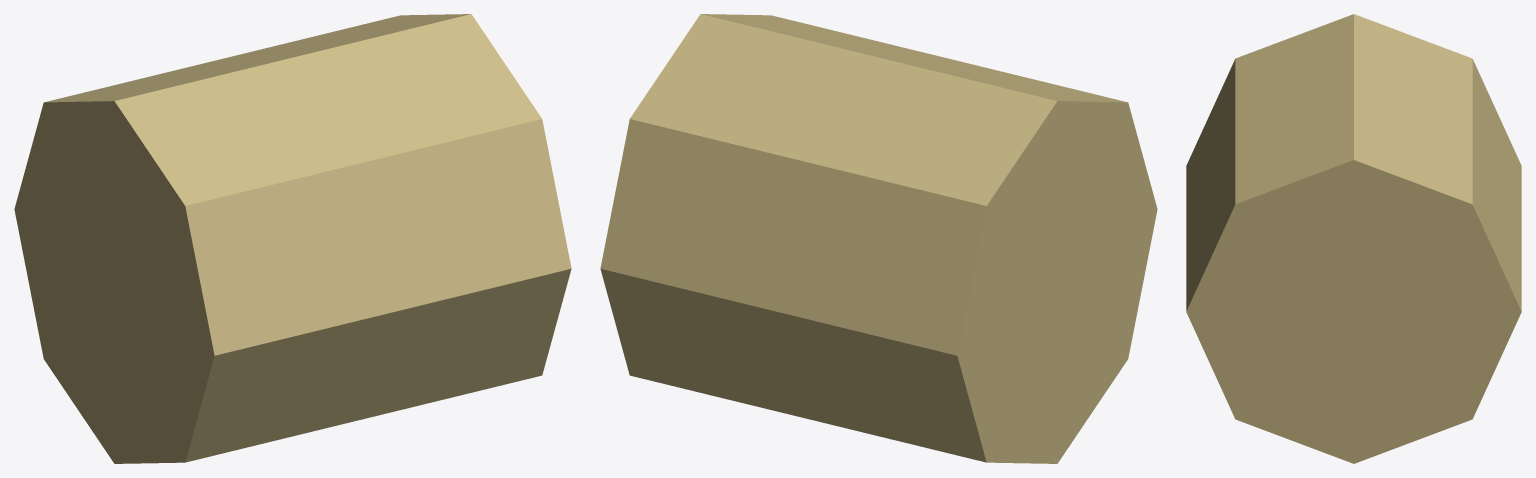
3 views of the same model, side by side, from view 1: azimuth 30°, elevation 25°; view 2: azimuth 150°, elevation 25°; view 3: azimuth 270°, elevation 25° (orthographic). The views are drawn at different scales.
Bounding box in the file's own units: 1.4 × 1.36 × 1.36.
